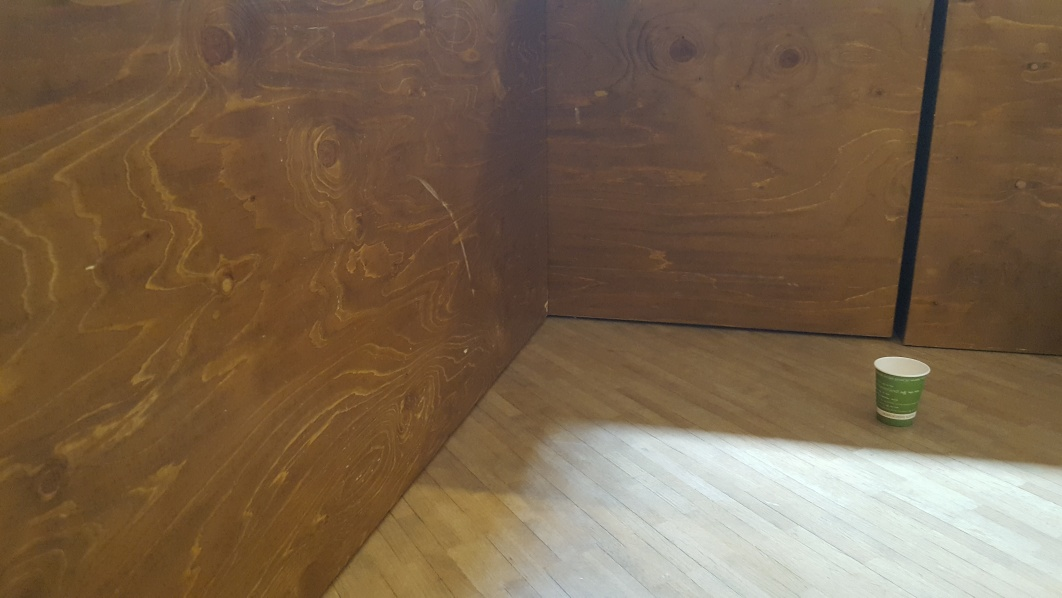cup: (868, 350, 936, 434)
